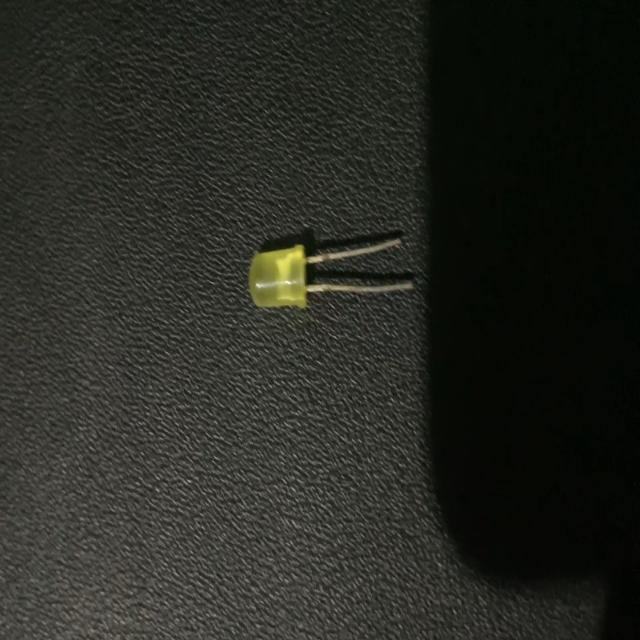LED: (248, 231, 419, 314)
